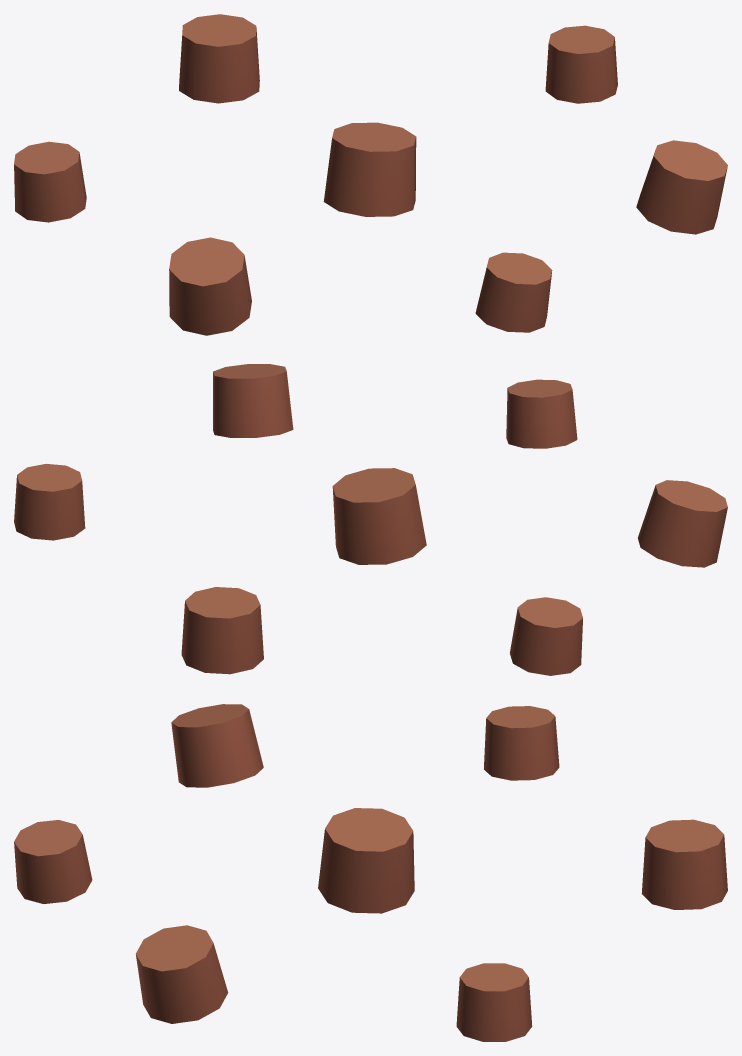
The model's file is trees_B_cut.gltf.
3 views of the same model, one above another, from view 1: azimuth 30°, elevation 25°; view 2: azimuth 150°, elevation 25°; view 3: azimuth 270°, elevation 25° (orthographic). The views are drawn at different scales.
Parts seen in each view (by area): view 1: trees_B_cut; view 2: trees_B_cut; view 3: trees_B_cut.
Boxes of the visible parts, x1=… form: trees_B_cut: x1=14, y1=14, x2=727, y2=335; trees_B_cut: x1=14, y1=364, x2=727, y2=675; trees_B_cut: x1=14, y1=704, x2=727, y2=1041.
Size of the model in its own units: 1.4 by 0.1732 by 1.46.
1 material, 1 textured.
